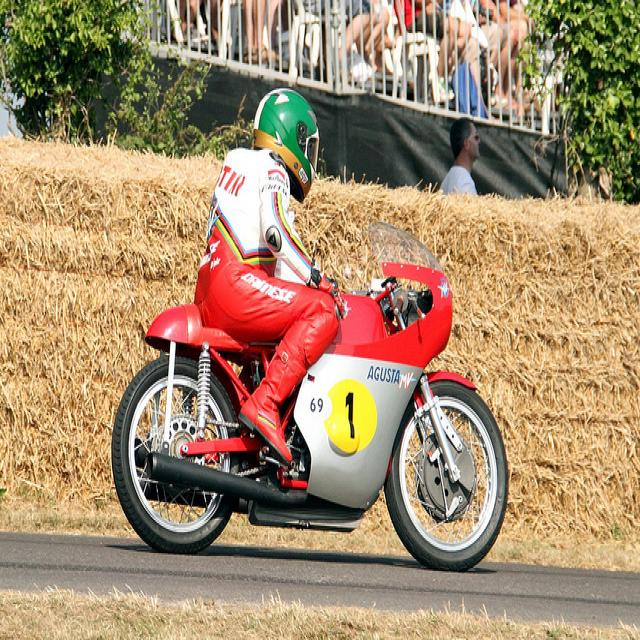motor: (120, 221, 503, 559)
